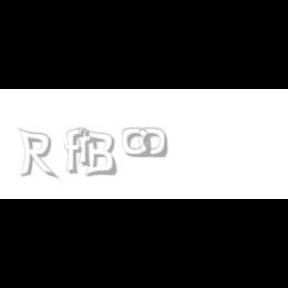B: (83, 128, 117, 178)
R: (18, 128, 56, 180)
f: (64, 128, 88, 174)
o: (138, 128, 168, 158), (122, 128, 150, 158)
t: (75, 128, 97, 168)
